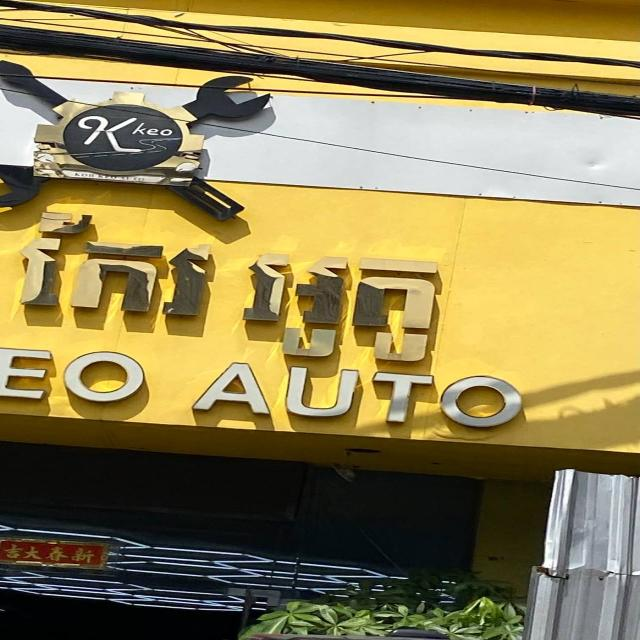Yolov11kh: (5, 202, 455, 376)
